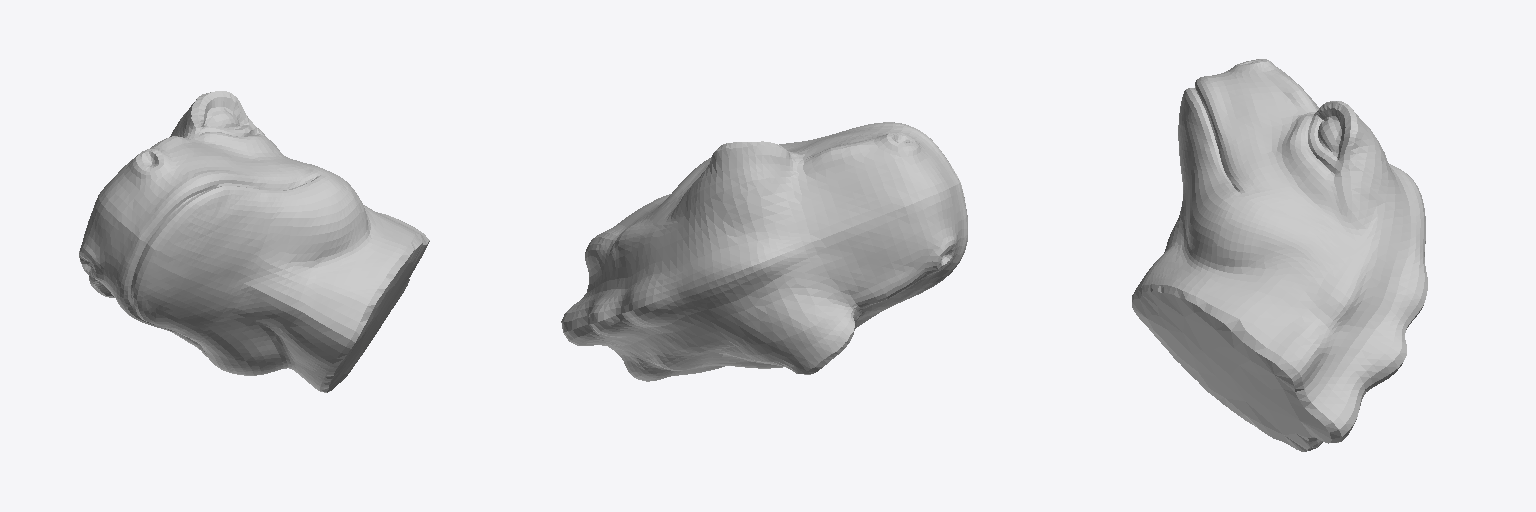
Rendered from Juassic.obj.
3 renders of one model, left to right at view 1: azimuth 30°, elevation 25°; view 2: azimuth 150°, elevation 25°; view 3: azimuth 270°, elevation 25°, orthographic.
Parts seen in each view (by area): view 1: Juassic; view 2: Juassic; view 3: Juassic.
Boxes of the visible parts, box(x1,y1,x2,y2) form: Juassic: box(79, 91, 429, 392); Juassic: box(561, 122, 967, 381); Juassic: box(1132, 59, 1427, 451).
Bounding box in the file's own units: 12.18 × 9.33 × 8.83.